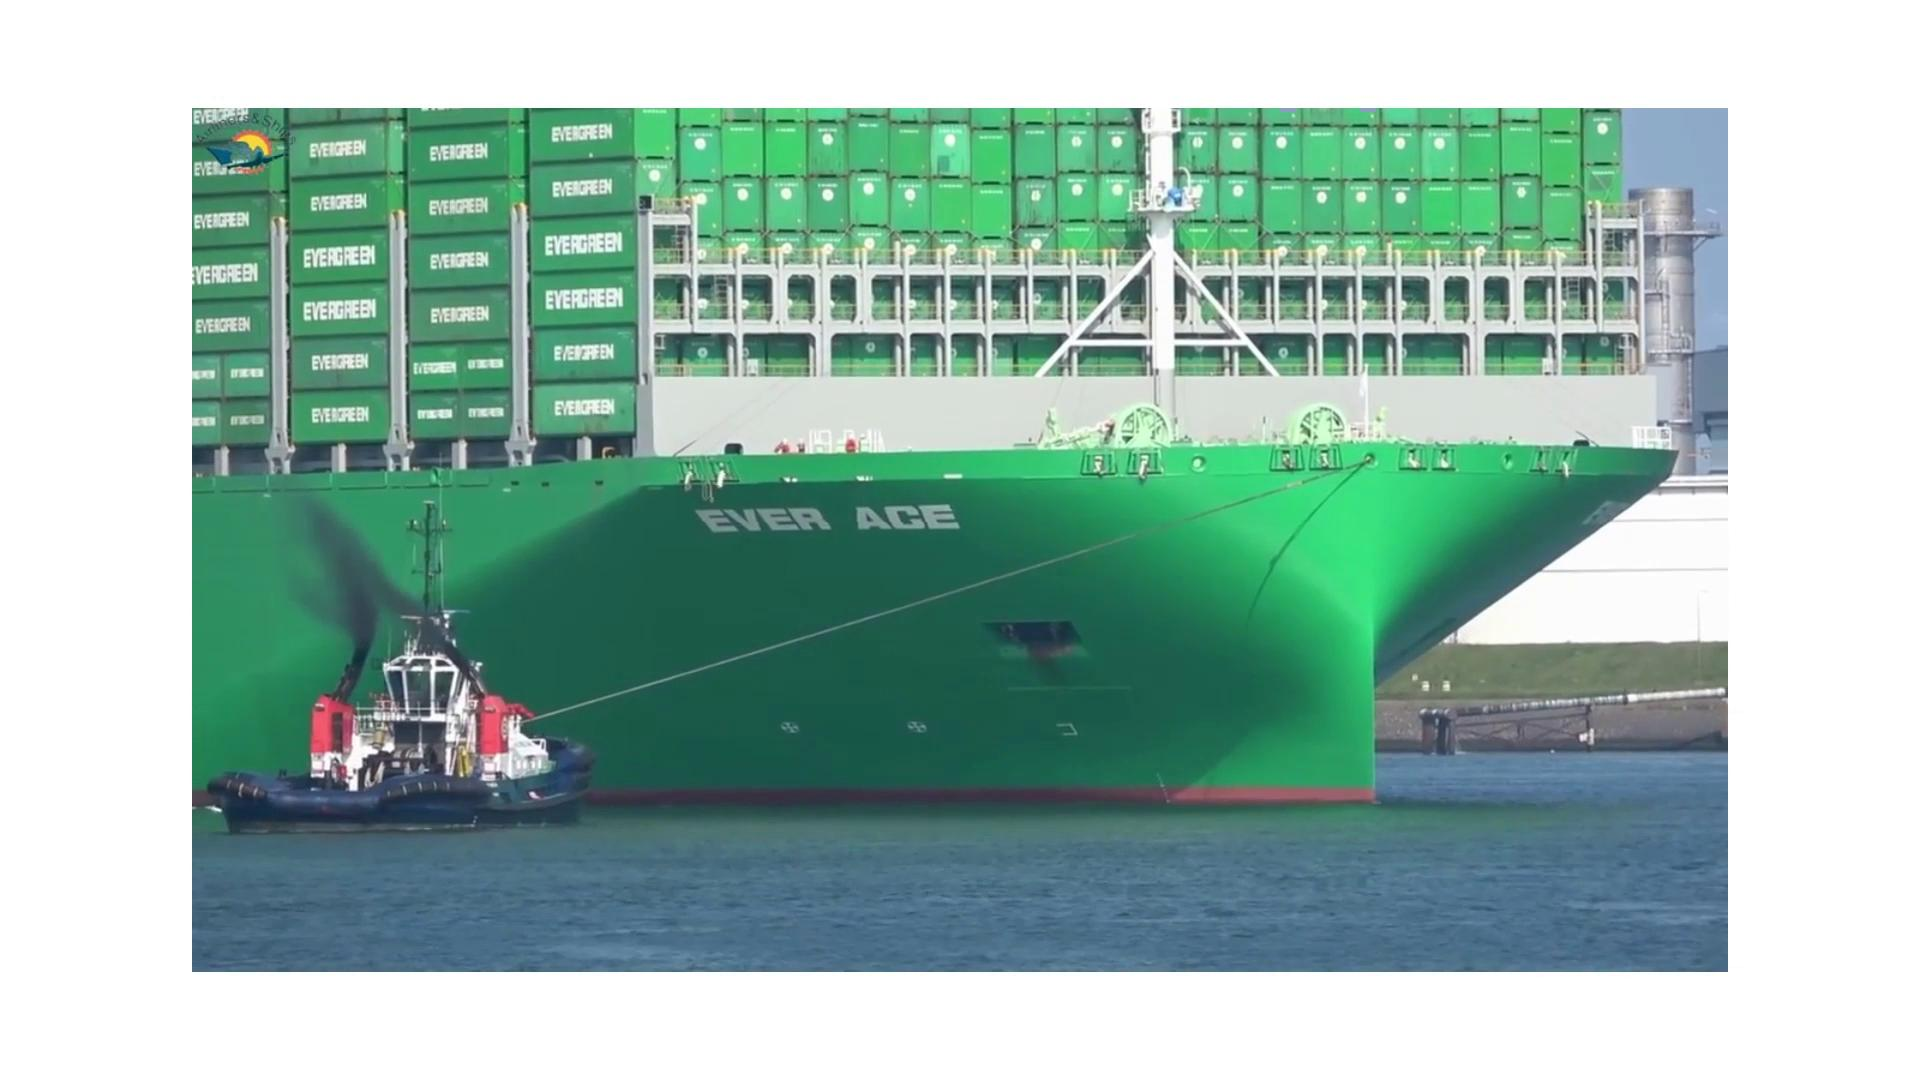OCR: (654, 465, 981, 558)
